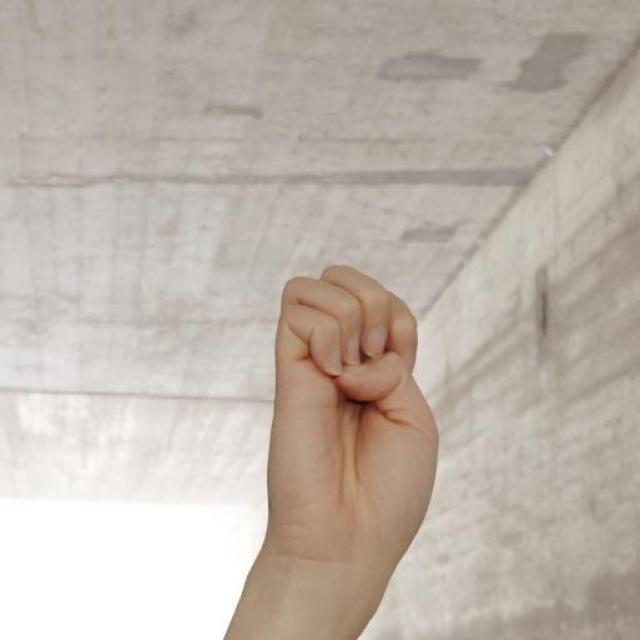E: (261, 261, 444, 570)
